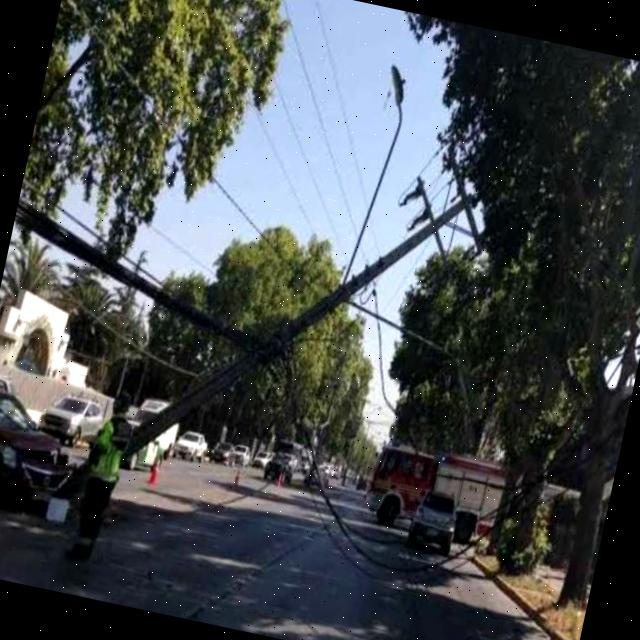Broken Pole: (105, 24, 524, 534)
